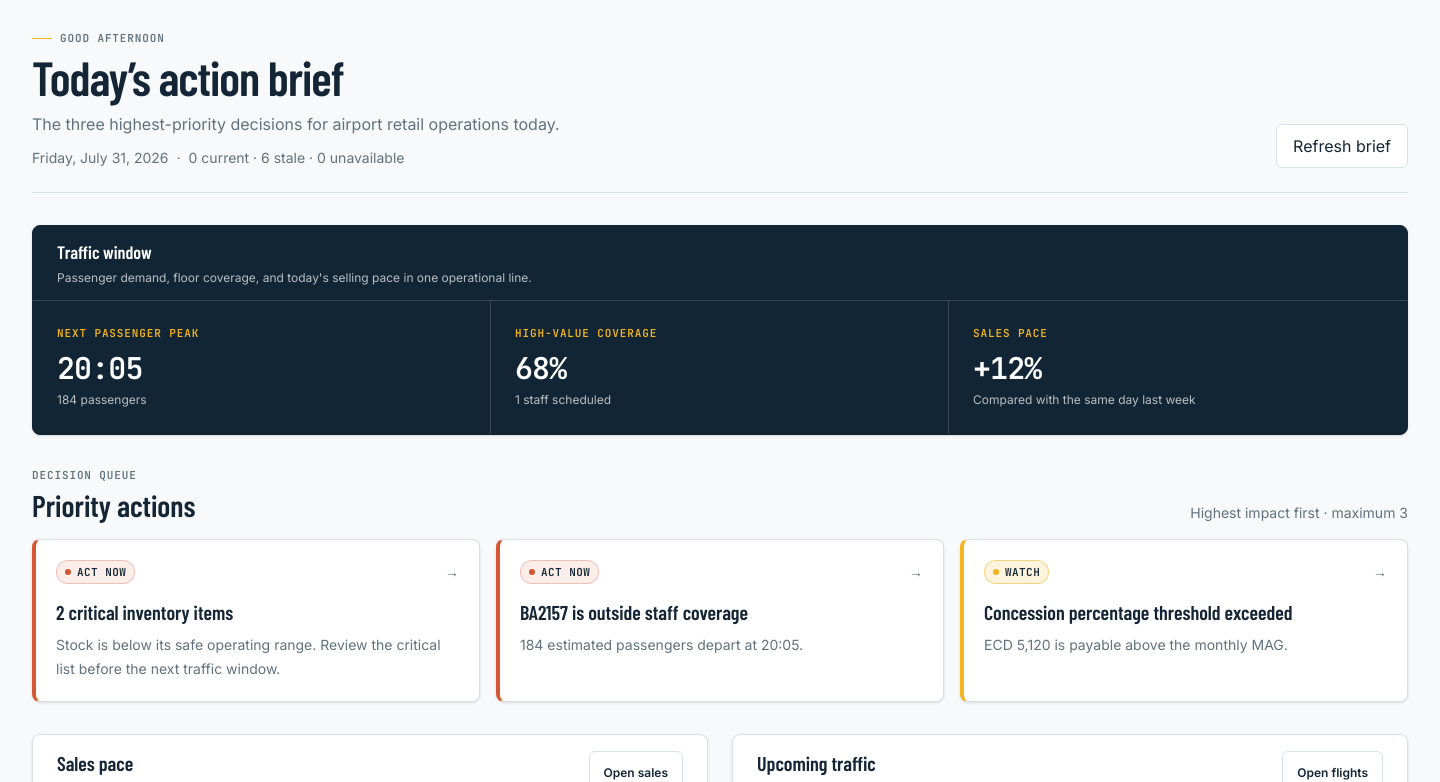
Test: daily action brief › does not retain date-bound data across an operating-day and month change
The image size is (1440, 782).
Click the button "Refresh brief". click: (1342, 146)
box: [1276,124,1408,168]
(page scrolled)
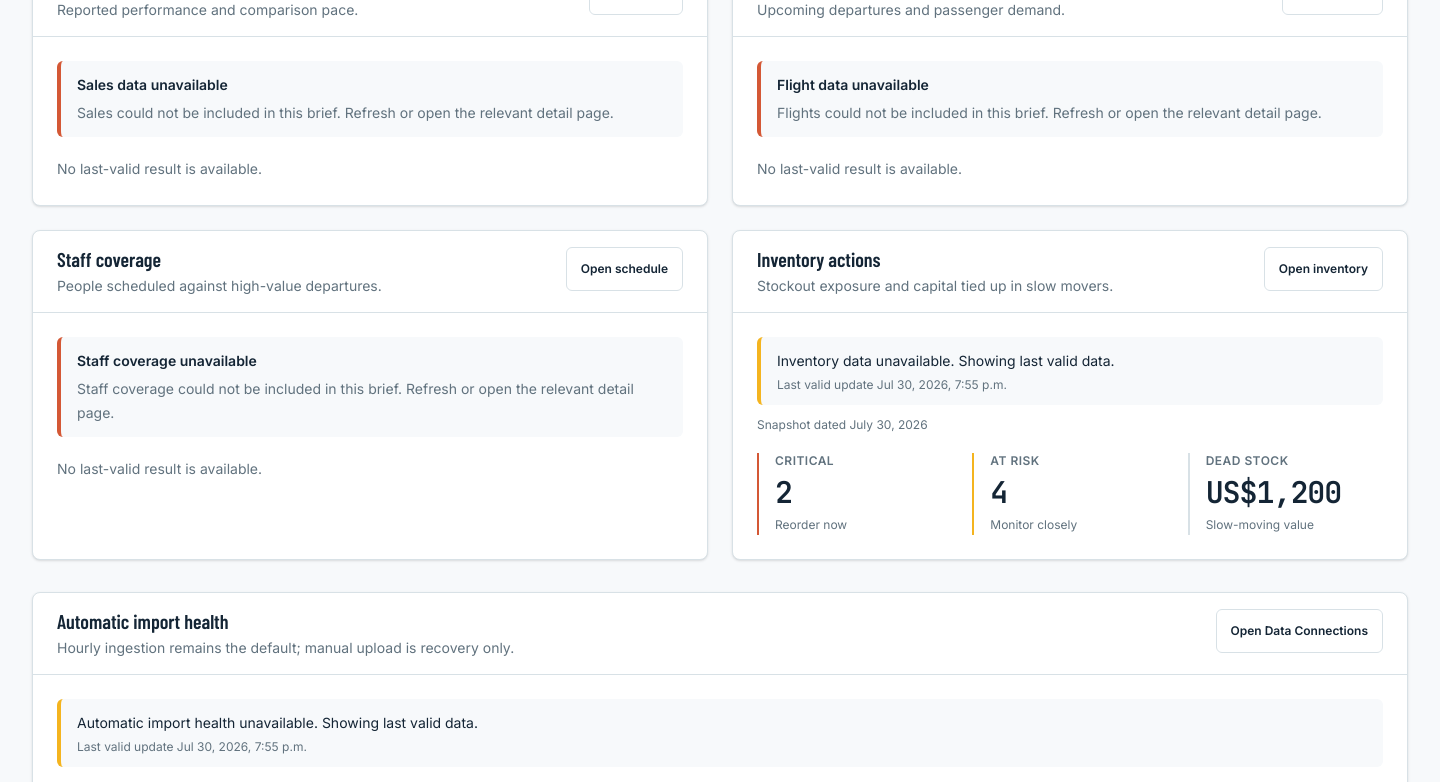
Now the element "Staff coverage" no longer shows "68%", box [32,230,708,560]
Now the element "Inventory actions" shows "Showing last valid data", box [950,352,1115,369]
